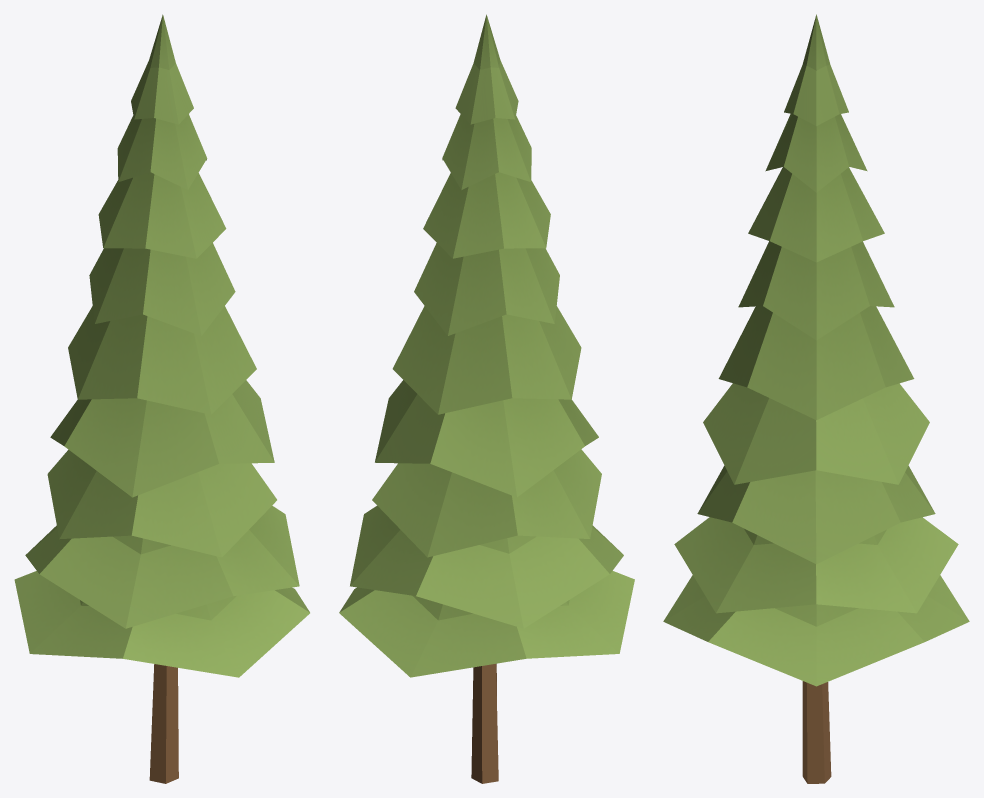
Rendered from Pine_Tree_OneSided_l_01.fbx.
3 renders of one model, left to right at view 1: azimuth 30°, elevation 25°; view 2: azimuth 150°, elevation 25°; view 3: azimuth 270°, elevation 25°, orthographic.
Visible parts, largest first — view 1: Pine_Tree_OneSided_l_01; view 2: Pine_Tree_OneSided_l_01; view 3: Pine_Tree_OneSided_l_01.
Boxes of the visible parts, x1,y1,x2,y2 form: Pine_Tree_OneSided_l_01: (14, 14, 309, 783); Pine_Tree_OneSided_l_01: (339, 14, 634, 783); Pine_Tree_OneSided_l_01: (663, 14, 969, 783).
Size of the model in its own units: 718 by 1975 by 718.
